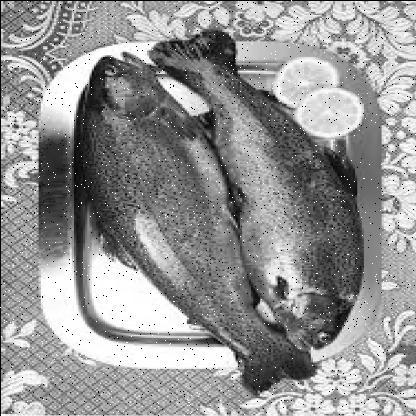fish: (95, 52, 308, 398), (155, 30, 366, 347)
